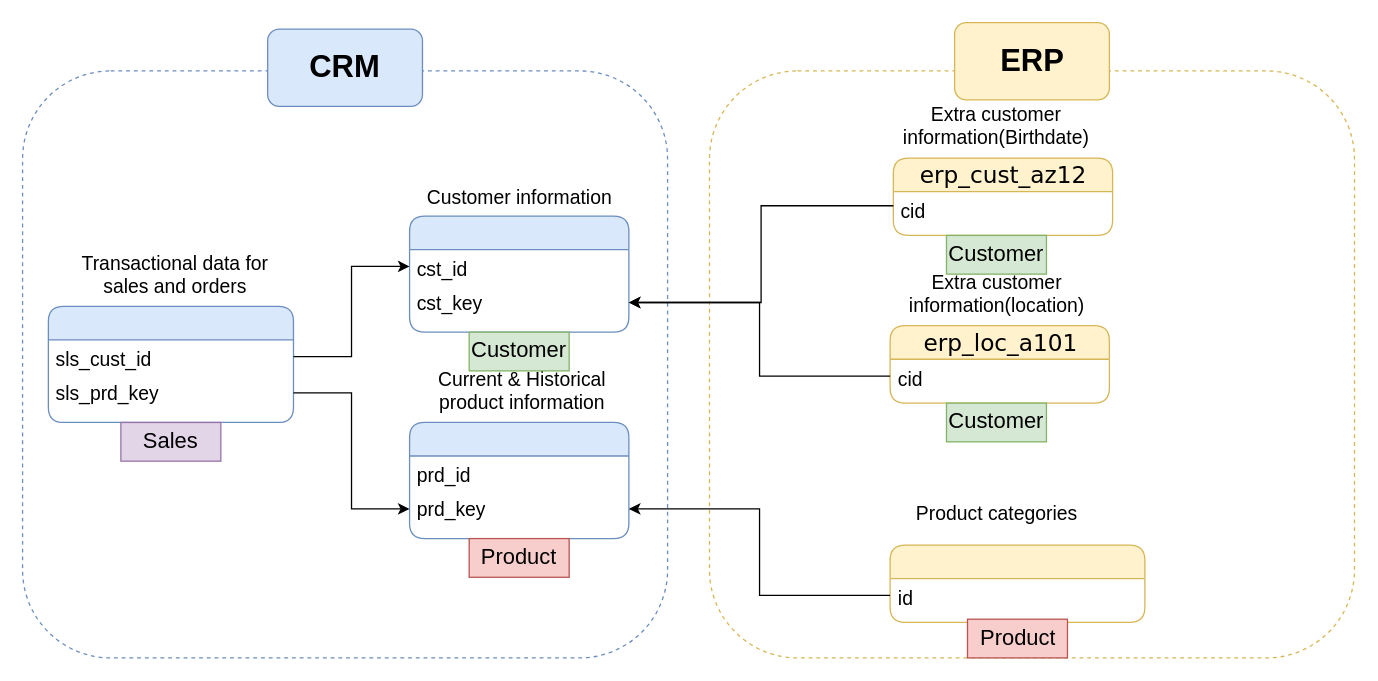
The diagram is 1378 pixels wide and 681 high, and some of its shapes have lost their labels. The shapes that lost their labels are listed below. From the top down, each one's box as (x1, y1, x2, y2) in pixels, then its label:
(408, 215, 629, 332): crm_cust_info
(47, 305, 293, 422): crm_sales_details
(408, 421, 629, 539): crm_prd_info
(889, 544, 1145, 622): erp_px_cat_g1v2
